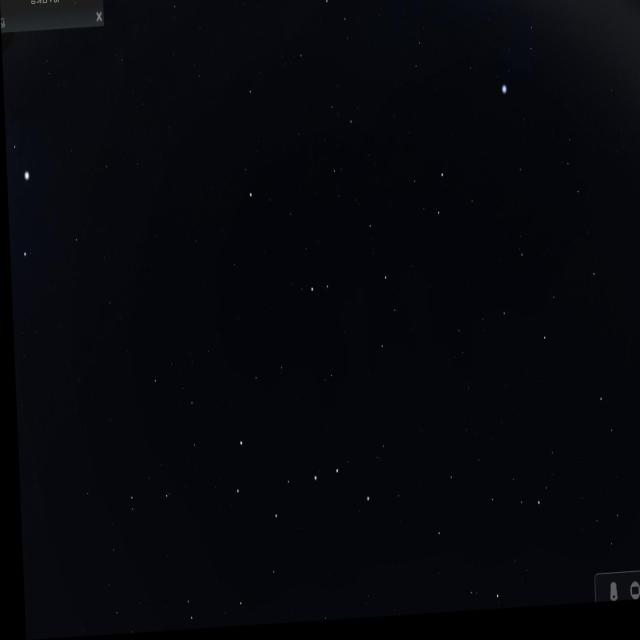lyra: (486, 5, 544, 116)
ursa_major: (225, 416, 369, 546)
